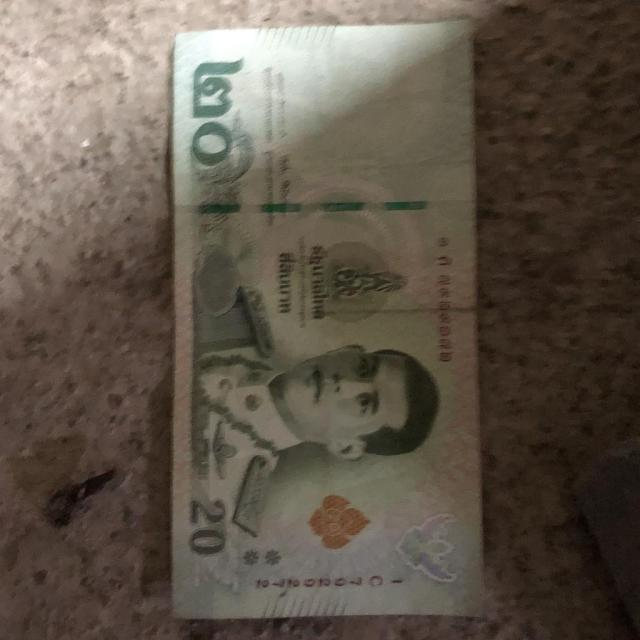THAI20: (171, 20, 482, 619)
